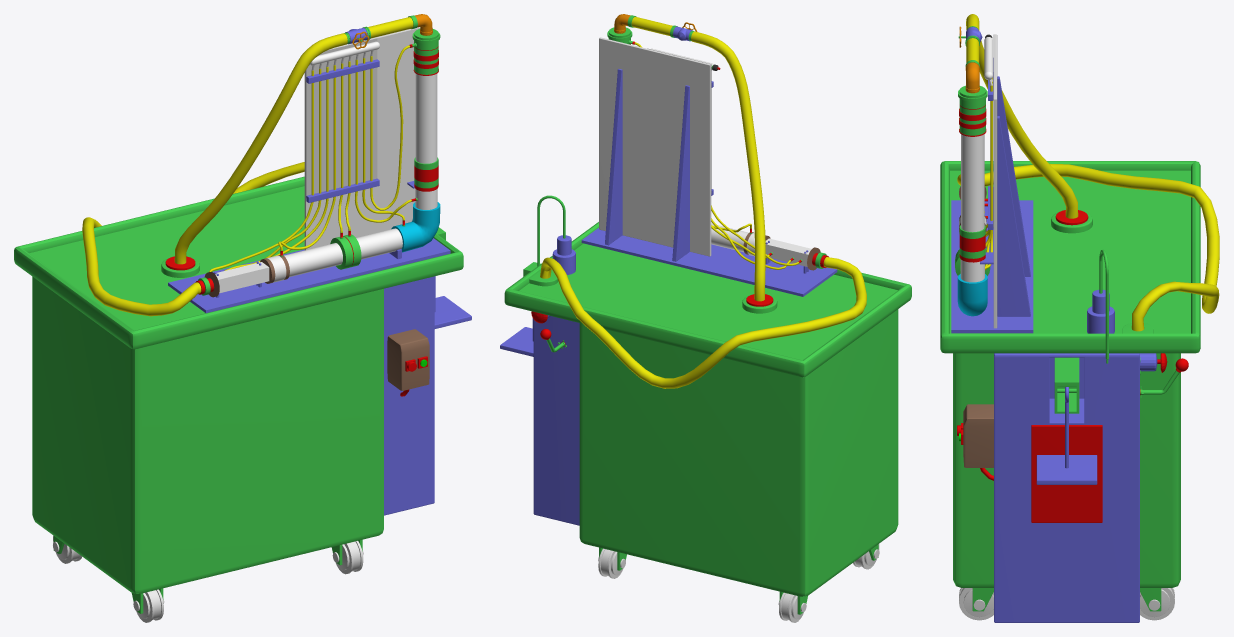
The model's file is Meter_Table_Fix (1).fbx.
3 renders of one model, left to right at view 1: azimuth 30°, elevation 25°; view 2: azimuth 150°, elevation 25°; view 3: azimuth 270°, elevation 25°, orthographic. The views are drawn at different scales.
Parts seen in each view (by area): view 1: pCube3, pCube26, pCube4, pCube29, pCube25, pPipe7, pCylinder120, polySurface22, pCylinder121, pCube14, pasted__pCylinder14, pCylinder60 (+8 smaller); view 2: pCube3, pCube26, pCube4, polySurface22, pCube25, pCube38, pPipe7, pCube32, pCylinder121, TableX01_1:pTorus1, pCylinder17; view 3: pCube3, pCube4, polySurface22, pCube38, pCube25, pCylinder60, pPipe7, TableX01_1:pTorus1, pCube14, pCube26, pCylinder13, pCylinder59 (+9 smaller).
Boxes of the visible parts, left/top/right/bottom form: pCube3: left=14, top=176, right=463, bottom=622; pCube26: left=304, top=27, right=420, bottom=250; pCube4: left=384, top=276, right=434, bottom=515; pCube29: left=306, top=38, right=377, bottom=197; pCube25: left=168, top=238, right=450, bottom=313; pPipe7: left=174, top=33, right=347, bottom=264; pCylinder120: left=311, top=56, right=372, bottom=195; polySurface22: left=82, top=162, right=304, bottom=316; pCylinder121: left=209, top=45, right=411, bottom=271; pCube14: left=387, top=329, right=429, bottom=396; pasted__pCylinder14: left=284, top=228, right=402, bottom=277; pCylinder60: left=415, top=74, right=437, bottom=163; pCube3: left=504, top=222, right=911, bottom=622; pCube26: left=599, top=37, right=711, bottom=256; pCube4: left=533, top=316, right=579, bottom=525; polySurface22: left=540, top=257, right=866, bottom=388; pCube25: left=581, top=228, right=837, bottom=296; pCube38: left=605, top=69, right=689, bottom=261; pPipe7: left=691, top=31, right=765, bottom=301; pCube32: left=765, top=238, right=811, bottom=266; pCylinder121: left=634, top=42, right=799, bottom=269; TableX01_1:pTorus1: left=500, top=318, right=533, bottom=356; pCylinder17: left=552, top=235, right=575, bottom=274; pCube3: left=940, top=161, right=1200, bottom=620; pCube4: left=994, top=353, right=1143, bottom=622; polySurface22: left=957, top=163, right=1219, bottom=331; pCube38: left=997, top=76, right=1030, bottom=316; pCube25: left=951, top=200, right=1033, bottom=333; pCylinder60: left=961, top=134, right=984, bottom=232; pPipe7: left=966, top=14, right=1078, bottom=218; TableX01_1:pTorus1: left=1036, top=387, right=1097, bottom=484; pCube14: left=961, top=404, right=993, bottom=480; pCube26: left=993, top=34, right=997, bottom=328; pCylinder13: left=1054, top=357, right=1079, bottom=413; pCylinder59: left=958, top=85, right=987, bottom=136.
Bounding box in the file's own units: 135 × 183 × 78.4.
